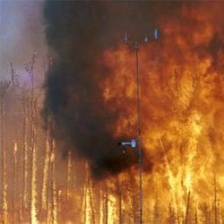fire: (3, 82, 223, 224)
smoke: (33, 4, 144, 171)
